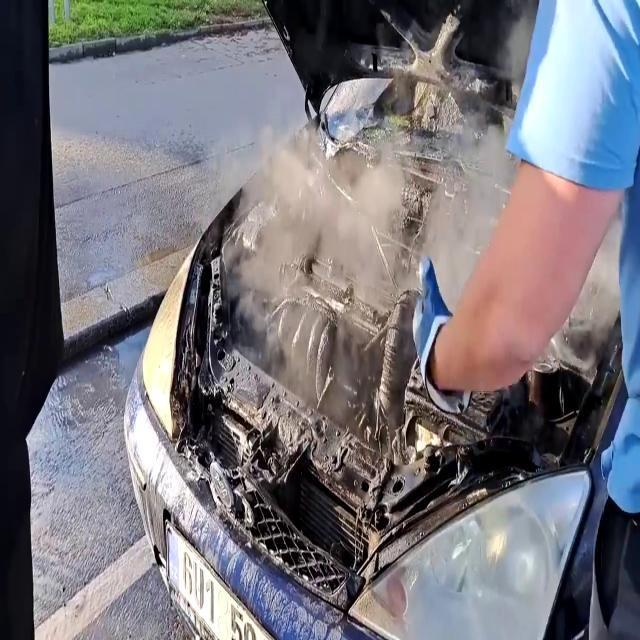Smoke: (227, 94, 526, 383)
